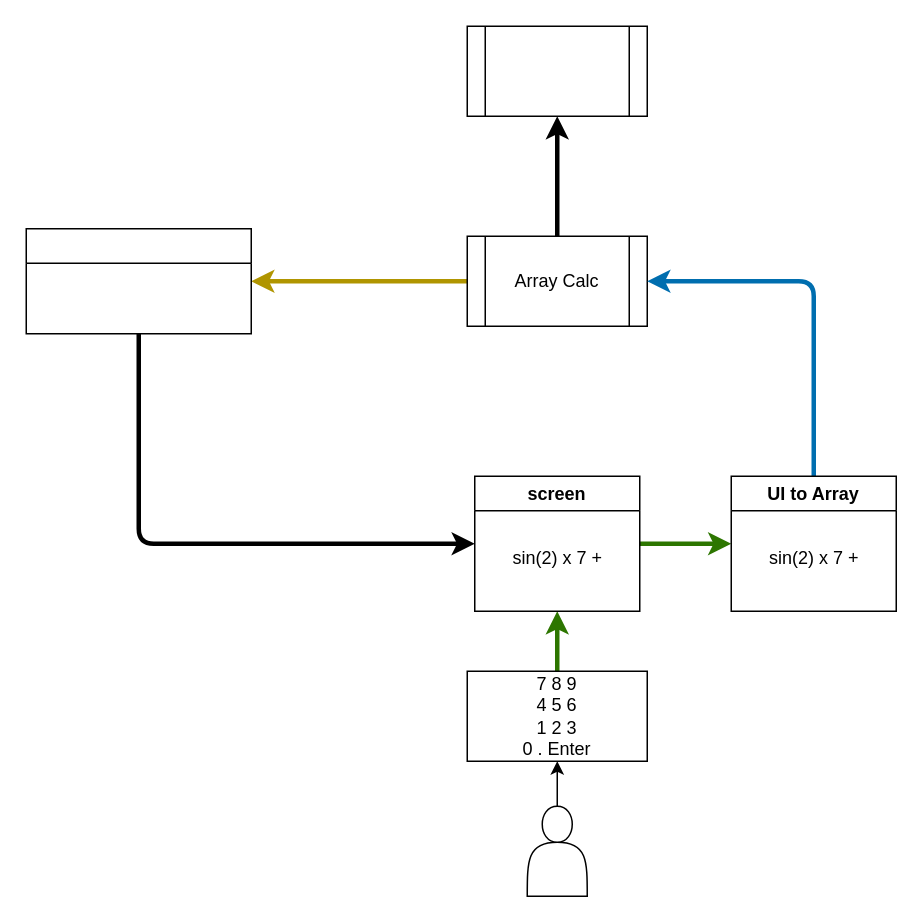
Image size: 923x923. Some labels were removed from this diagram. Here are the shapes that lost their labels. From the top down, the box of each, then its label:
(466, 25, 647, 116): Console
(25, 227, 251, 334): Array to UI
